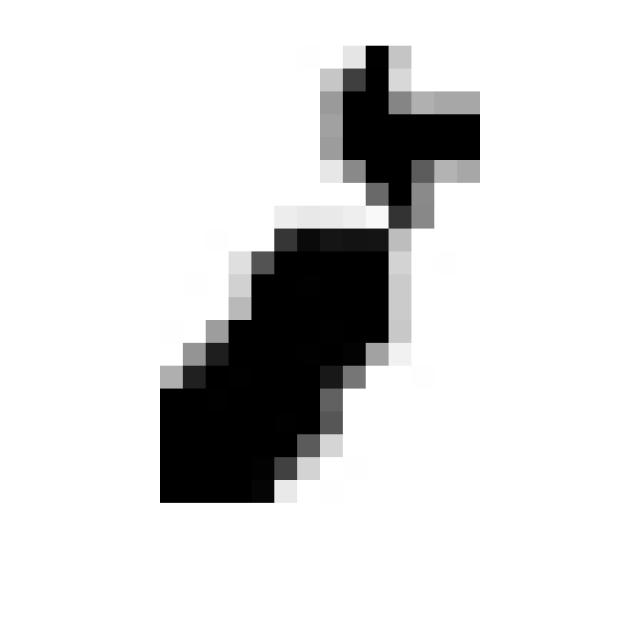0 -zero-: (147, 28, 493, 520)
